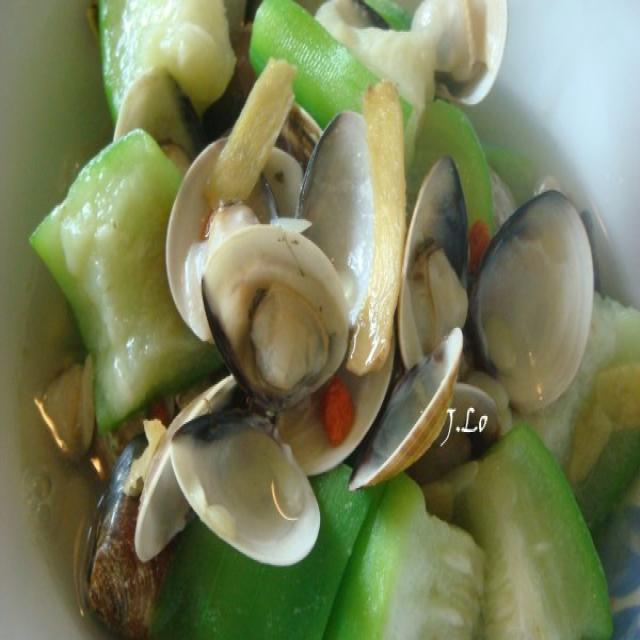Wet: (46, 0, 600, 640)
